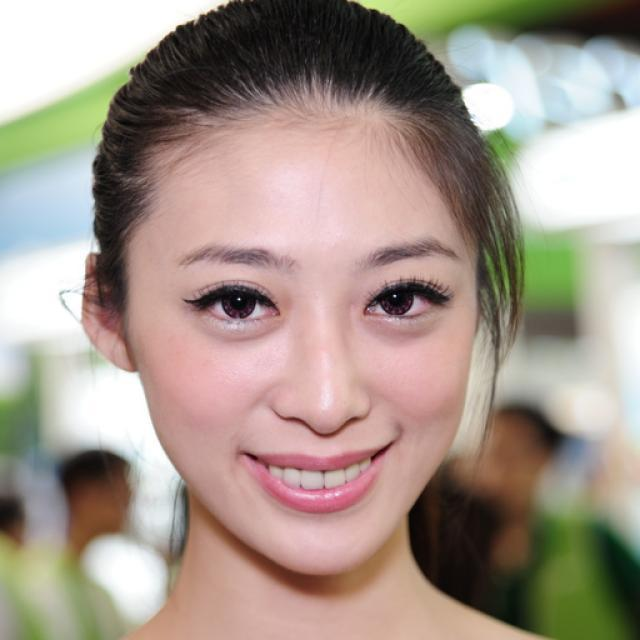happy: (126, 104, 478, 574)
